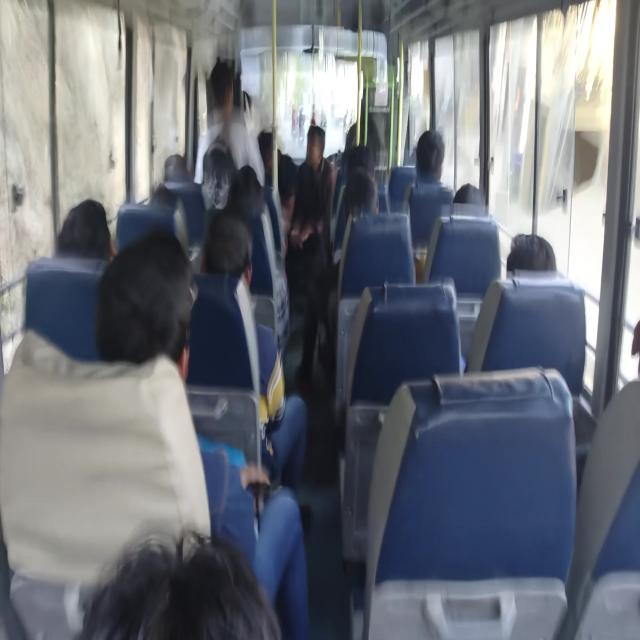person: (2, 89, 580, 636), (94, 227, 308, 637), (0, 229, 213, 637), (94, 228, 213, 540), (199, 208, 308, 504), (75, 528, 283, 638), (289, 124, 336, 390), (194, 59, 265, 191), (407, 129, 454, 279), (291, 125, 335, 256), (55, 198, 113, 260), (506, 232, 556, 275), (414, 129, 444, 185), (452, 182, 483, 204)
